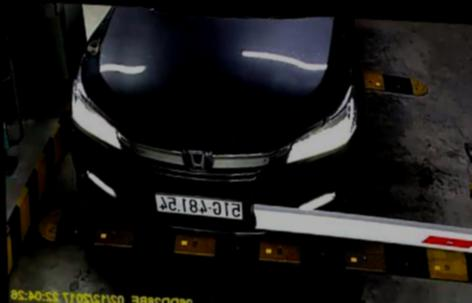License_Plate: (151, 193, 247, 223)
